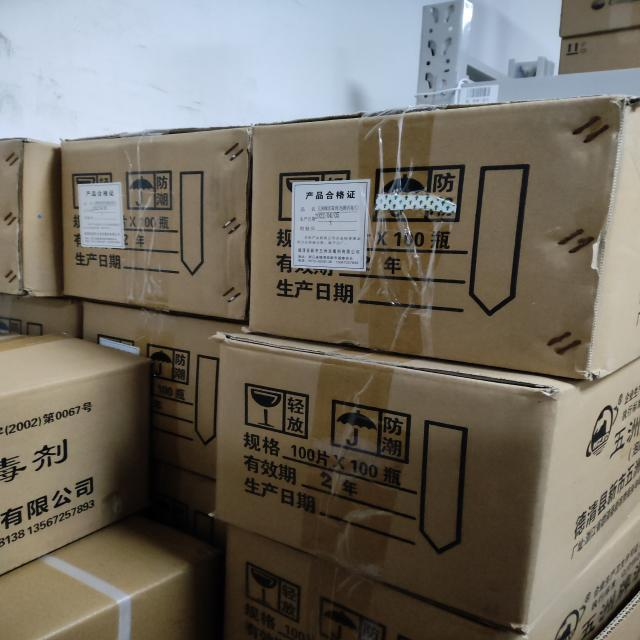box: (212, 321, 640, 625), (250, 100, 640, 380), (222, 520, 640, 640), (0, 327, 152, 578), (60, 124, 253, 321), (87, 297, 249, 529), (0, 510, 223, 637), (0, 136, 76, 297), (560, 0, 640, 72), (0, 285, 83, 342)
